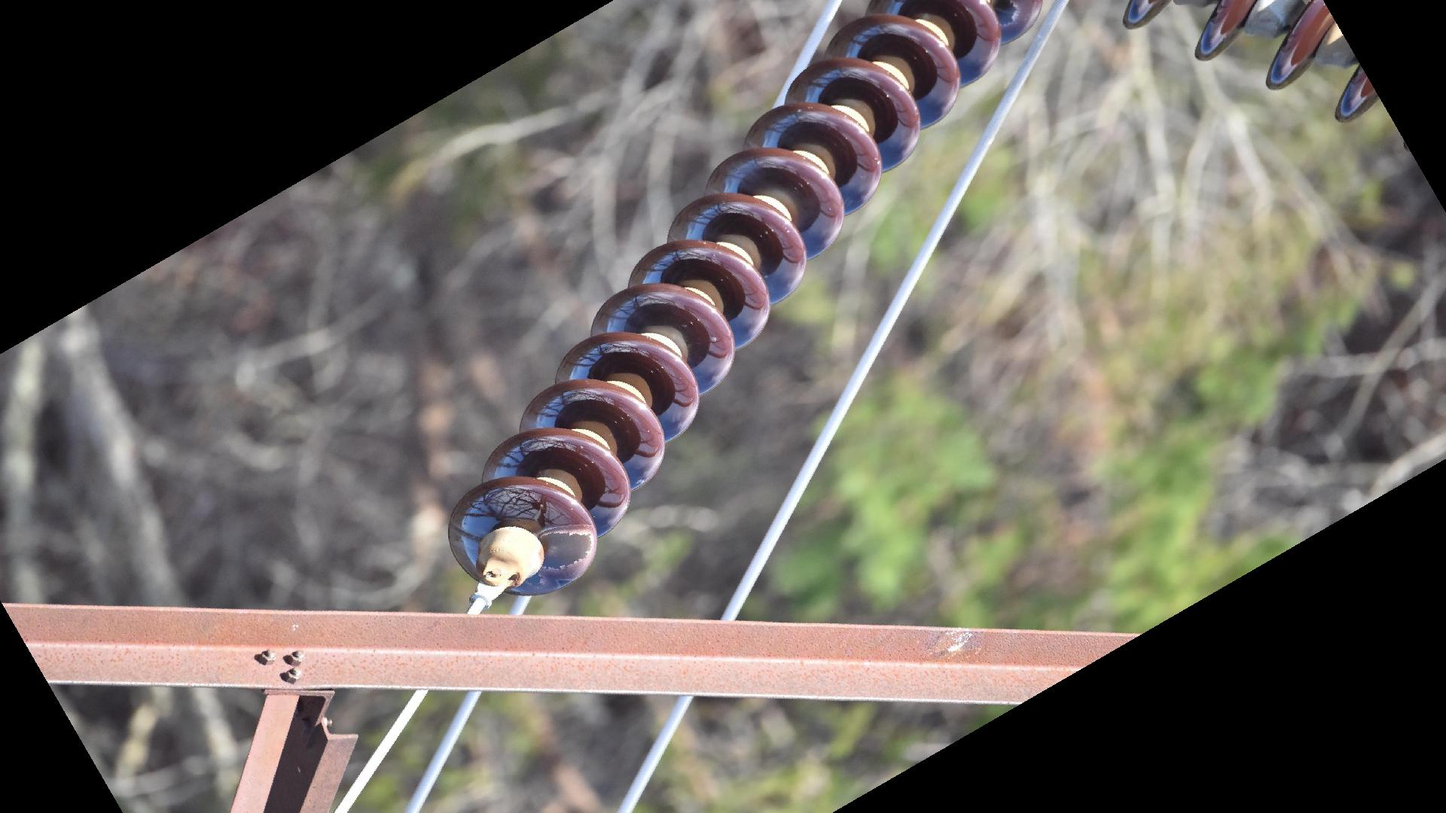insulator: (444, 1, 1049, 596), (1114, 1, 1387, 128)
insulator_flashover: (536, 527, 595, 571)
